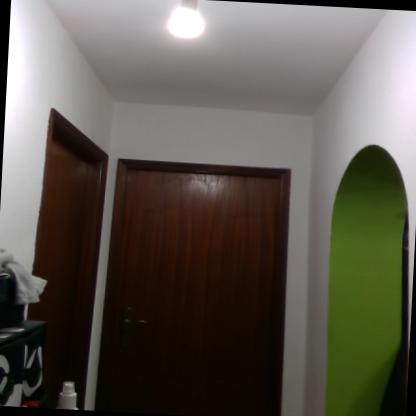closed: (90, 139, 312, 412), (28, 104, 115, 399)
